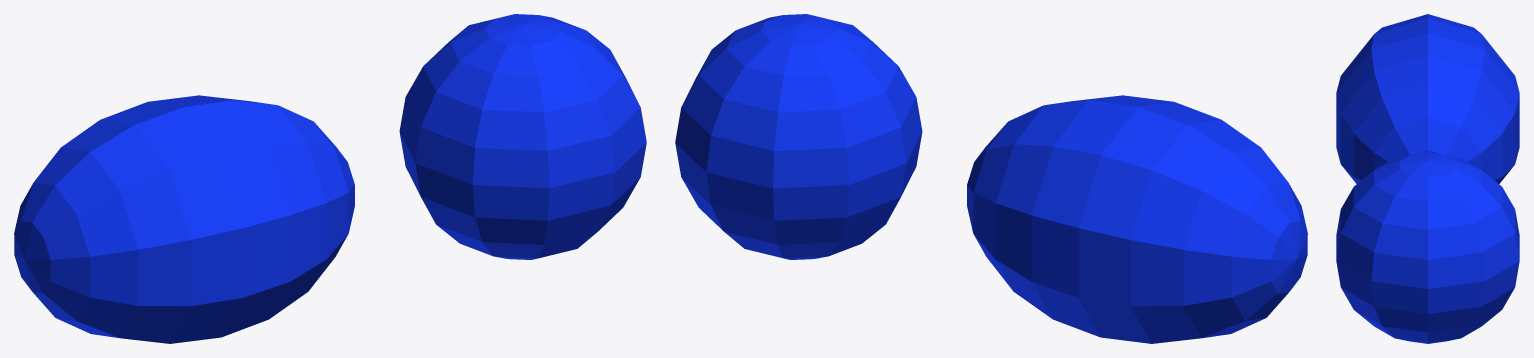
File: enemy sweets.fbx
The picture shows the model from 3 angles, left to right: view 1: azimuth 30°, elevation 25°; view 2: azimuth 150°, elevation 25°; view 3: azimuth 270°, elevation 25°; orthographic projection. The views are drawn at different scales.
Visible parts, largest first — view 1: Object006; view 2: Object006; view 3: Object006.
Part boxes in pixels (box(x1,y1,x2,y2)): Object006: box(14, 14, 646, 343); Object006: box(675, 14, 1307, 343); Object006: box(1336, 14, 1519, 343).
Bounding box in the file's own units: 76.74 × 27.26 × 25.93.
